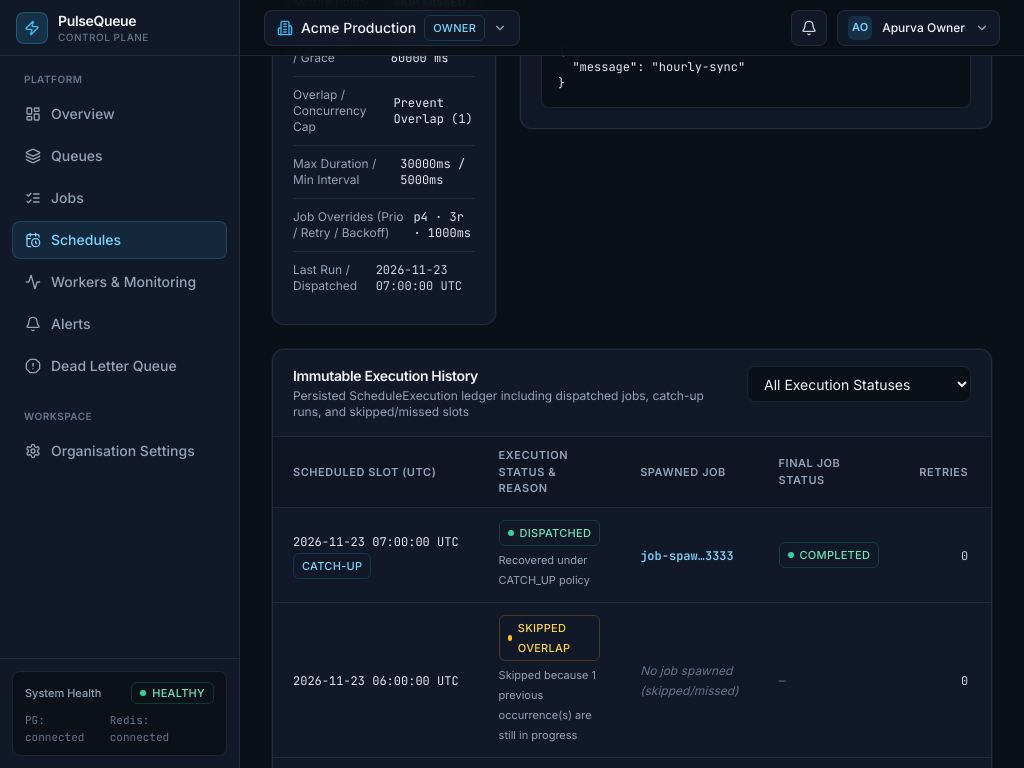
Test: Scheduling UI — List, Filters, Create/Edit Modal, Lifecycle Actions, Detail & RBAC (Step 6.4.2) › renders ScheduleDetailPage with stats, upcoming runs in local & UTC, execution history filters, and spawned job links
(page scrolled)
Expected: the text "No job spawned (skipped/missed)" is shown, left=640, top=662, right=738, bottom=698
Expected: the text "Skipped because 1 previous occurrence(s) are still in progress" is shown, left=499, top=664, right=600, bottom=744
# Filter execution history by SKIPPED_OVERLAP
Select "Skipped (Overlap)" in the dropdown named "Filter execution history by status" at (859, 384), box left=747, top=366, right=971, bottom=402
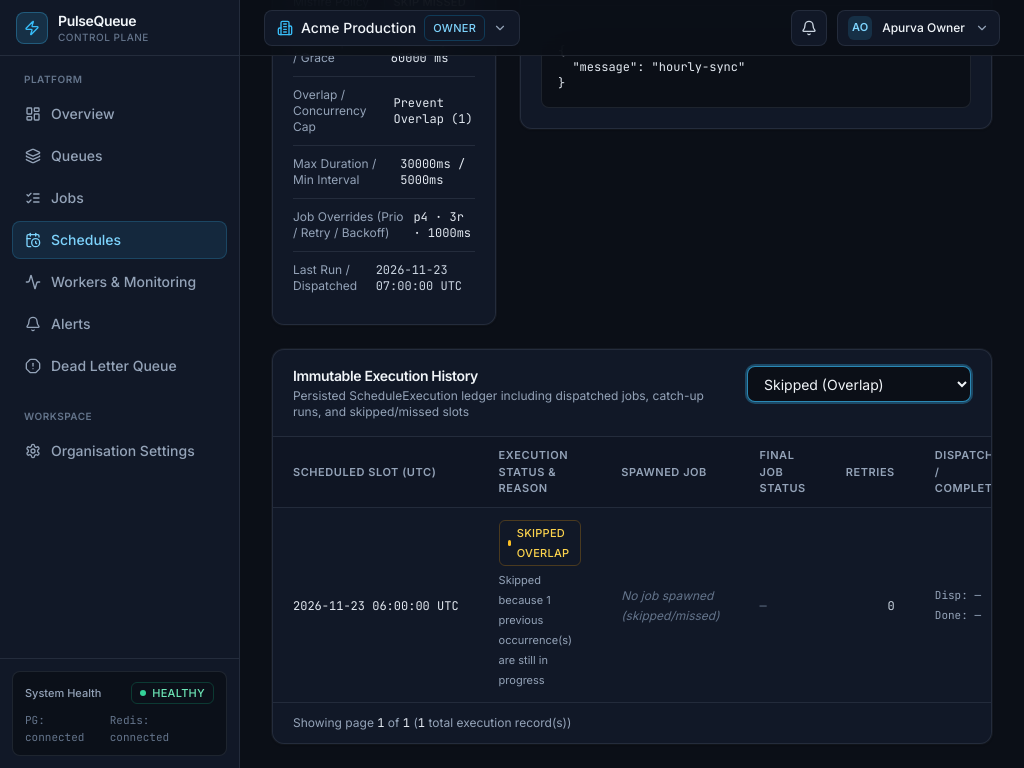
Expected: the text "No job spawned (skipped/missed)" is shown, left=621, top=588, right=720, bottom=622
Result: the link "job-spaw…3333" is gone
